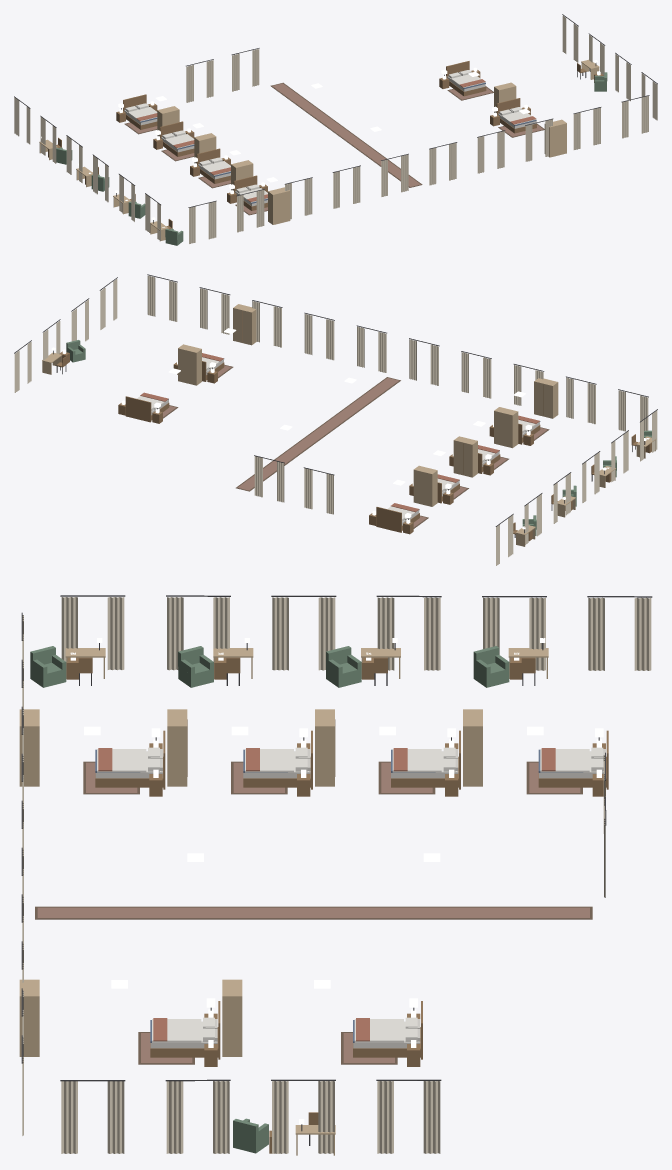
File: fine-s1.glb
The picture shows the model from 3 angles, top to bottom: view 1: azimuth 30°, elevation 25°; view 2: azimuth 150°, elevation 25°; view 3: azimuth 270°, elevation 25°; orthographic projection. The views are drawn at different scales.
Parts seen in each view (by area): view 1: soft-s1, dresser.005, dresser.001, bed-frame.000, bed-frame.001, bed-frame.002, bed-frame.003, bed-frame.004, bed-frame.005, dresser.002, dresser.003, dresser.000 (+1 smaller); view 2: soft-s1, dresser.003, dresser.002, dresser.004, dresser.005, dresser.000, dresser.001, bed-frame.000, bed-frame.002; view 3: soft-s1, dresser.004, dresser.000, dresser.003, dresser.002, dresser.001, dresser.005, lounge-chair.001, bed-frame.005, lounge-chair.004, lounge-chair.002, lounge-chair.003 (+6 smaller).
Part boxes in pixels (box(x1,y1,x2,y2)): soft-s1: box(14, 14, 657, 243); dresser.005: box(268, 187, 290, 224); dresser.001: box(544, 119, 566, 157); bed-frame.000: box(446, 61, 486, 96); bed-frame.001: box(496, 98, 536, 133); bed-frame.002: box(123, 94, 157, 129); bed-frame.003: box(160, 121, 194, 156); bed-frame.004: box(196, 148, 230, 183); bed-frame.005: box(233, 175, 267, 210); dresser.002: box(157, 106, 179, 136); dresser.003: box(194, 133, 216, 163); dresser.000: box(494, 82, 516, 112); soft-s1: box(14, 274, 657, 565); dresser.003: box(453, 436, 477, 477); dresser.002: box(413, 465, 437, 506); dresser.004: box(494, 407, 518, 448); dresser.005: box(534, 378, 558, 418); dresser.000: box(178, 344, 201, 385); dresser.001: box(233, 304, 256, 345); bed-frame.000: box(125, 396, 169, 422); bed-frame.002: box(376, 507, 419, 532); soft-s1: box(21, 595, 652, 1153); dresser.004: box(167, 709, 187, 786); dresser.000: box(222, 979, 242, 1056); dresser.003: box(315, 709, 335, 786); dresser.002: box(463, 709, 482, 786); dresser.001: box(19, 979, 39, 1056); dresser.005: box(19, 709, 39, 786); lounge-chair.001: box(473, 646, 509, 687); bed-frame.005: box(95, 730, 165, 789); lounge-chair.004: box(30, 646, 66, 687); lounge-chair.002: box(326, 646, 361, 687); lounge-chair.003: box(178, 646, 213, 687).
Size of the model in its own units: 34.48 by 2.49 by 18.99.
